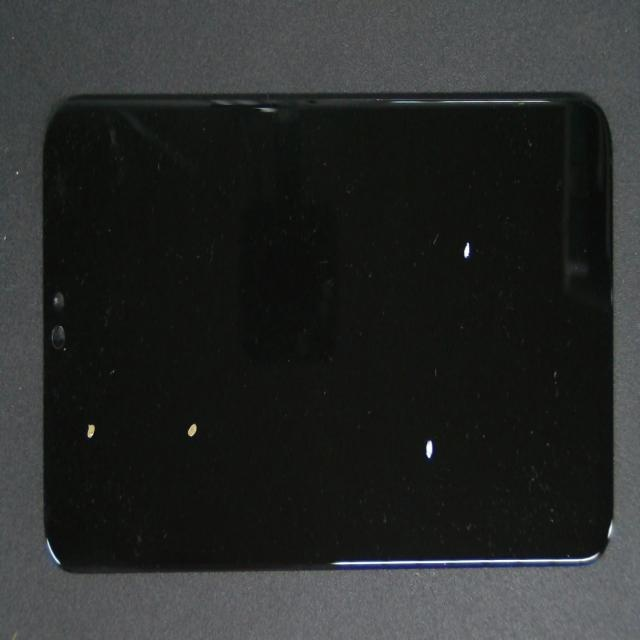stain: (223, 194, 639, 640), (231, 76, 640, 359), (111, 198, 305, 612), (66, 183, 149, 596)
